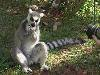cat: (8, 5, 88, 73)
